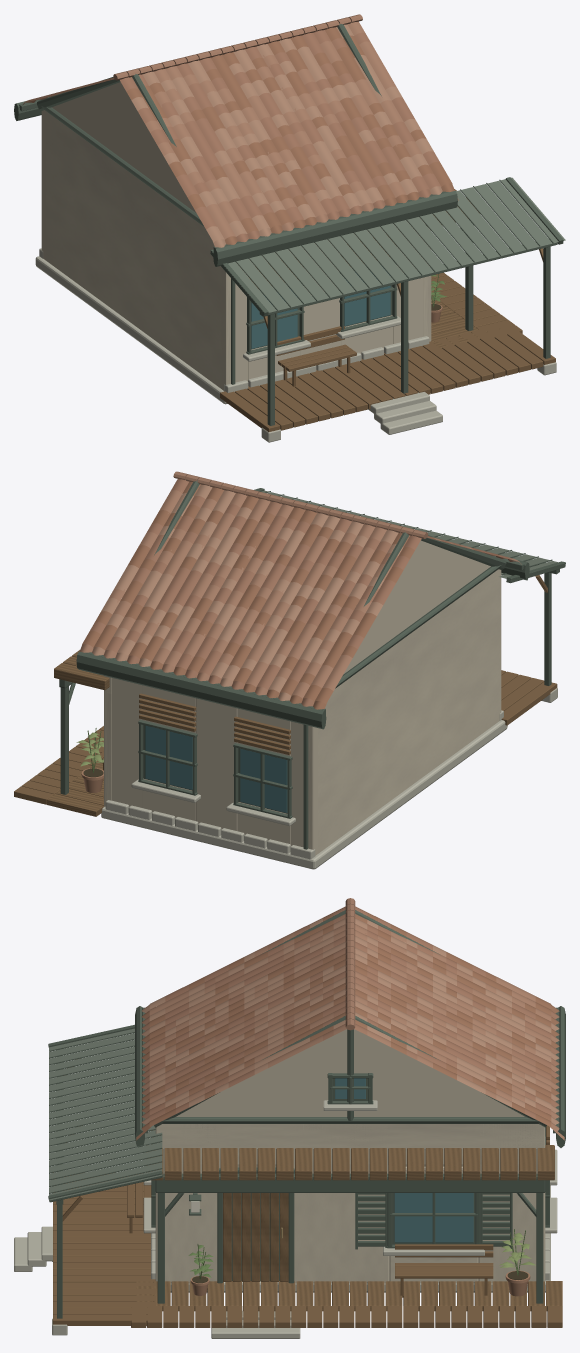
The model's file is garden-house-scenic.glb.
3 views of the same model, one above another, from view 1: azimuth 30°, elevation 25°; view 2: azimuth 150°, elevation 25°; view 3: azimuth 270°, elevation 25° (orthographic). The views are drawn at different scales.
Parts seen in each view (by area): view 1: garden-house-scenic_Warm_lime_plaster, garden-house-scenic_Weathered_natural_timber, garden-house-scenic_Dark_matte_garden_trim, garden-house-scenic_Veranda_aged_standing_seam, garden-house-scenic_Clay_tile_variation_3, garden-house-scenic_Clay_tile_variation_2, garden-house-scenic_Clay_tile_variation_0, garden-house-scenic_Clay_tile_variation_1, garden-house-scenic_Limestone_plinth, garden-house-scenic_Quiet_blue_green_window_glass; view 2: garden-house-scenic_Warm_lime_plaster, garden-house-scenic_Dark_matte_garden_trim, garden-house-scenic_Clay_tile_variation_1, garden-house-scenic_Clay_tile_variation_0, garden-house-scenic_Clay_tile_variation_3, garden-house-scenic_Clay_tile_variation_2, garden-house-scenic_Weathered_natural_timber, garden-house-scenic_Limestone_plinth, garden-house-scenic_Quiet_blue_green_window_glass, garden-house-scenic_Veranda_aged_standing_seam; view 3: garden-house-scenic_Weathered_natural_timber, garden-house-scenic_Warm_lime_plaster, garden-house-scenic_Dark_matte_garden_trim, garden-house-scenic_Clay_tile_variation_1, garden-house-scenic_Clay_tile_variation_3, garden-house-scenic_Clay_tile_variation_0, garden-house-scenic_Clay_tile_variation_2, garden-house-scenic_Veranda_aged_standing_seam, garden-house-scenic_Limestone_plinth, garden-house-scenic_Quiet_blue_green_window_glass, garden-house-scenic_Terracotta, garden-house-scenic_Mature_leaf_green.
Boxes of the visible parts, x1,y1,x2,y2 form: garden-house-scenic_Warm_lime_plaster: (41, 82, 431, 390); garden-house-scenic_Weathered_natural_timber: (220, 189, 555, 432); garden-house-scenic_Dark_matte_garden_trim: (14, 23, 563, 425); garden-house-scenic_Veranda_aged_standing_seam: (228, 177, 565, 312); garden-house-scenic_Clay_tile_variation_3: (74, 24, 442, 247); garden-house-scenic_Clay_tile_variation_2: (34, 30, 441, 242); garden-house-scenic_Clay_tile_variation_0: (23, 27, 458, 244); garden-house-scenic_Clay_tile_variation_1: (31, 14, 422, 239); garden-house-scenic_Limestone_plinth: (35, 248, 556, 442); garden-house-scenic_Quiet_blue_green_window_glass: (251, 265, 390, 348); garden-house-scenic_Warm_lime_plaster: (104, 540, 501, 855); garden-house-scenic_Dark_matte_garden_trim: (59, 480, 565, 849); garden-house-scenic_Clay_tile_variation_1: (75, 471, 494, 698); garden-house-scenic_Clay_tile_variation_0: (82, 481, 507, 709); garden-house-scenic_Clay_tile_variation_3: (92, 484, 521, 700); garden-house-scenic_Clay_tile_variation_2: (89, 479, 511, 706); garden-house-scenic_Weathered_natural_timber: (14, 575, 557, 816); garden-house-scenic_Limestone_plinth: (101, 687, 557, 869); garden-house-scenic_Quiet_blue_green_window_glass: (145, 725, 287, 812); garden-house-scenic_Veranda_aged_standing_seam: (260, 490, 557, 578); garden-house-scenic_Weathered_natural_timber: (53, 1059, 562, 1327); garden-house-scenic_Warm_lime_plaster: (155, 1029, 545, 1283); garden-house-scenic_Dark_matte_garden_trim: (48, 910, 565, 1318); garden-house-scenic_Clay_tile_variation_1: (141, 898, 564, 1140); garden-house-scenic_Clay_tile_variation_3: (141, 918, 559, 1124); garden-house-scenic_Clay_tile_variation_0: (136, 912, 559, 1140); garden-house-scenic_Clay_tile_variation_2: (141, 906, 559, 1120); garden-house-scenic_Veranda_aged_standing_seam: (49, 1028, 162, 1200); garden-house-scenic_Limestone_plinth: (14, 1100, 557, 1338); garden-house-scenic_Quiet_blue_green_window_glass: (335, 1078, 473, 1242); garden-house-scenic_Terracotta: (190, 1270, 530, 1296); garden-house-scenic_Mature_leaf_green: (188, 1229, 525, 1279).
Size of the model in its own units: 7.62 by 6.44 by 11.2.
Materials: 16 (2 with a texture image).
